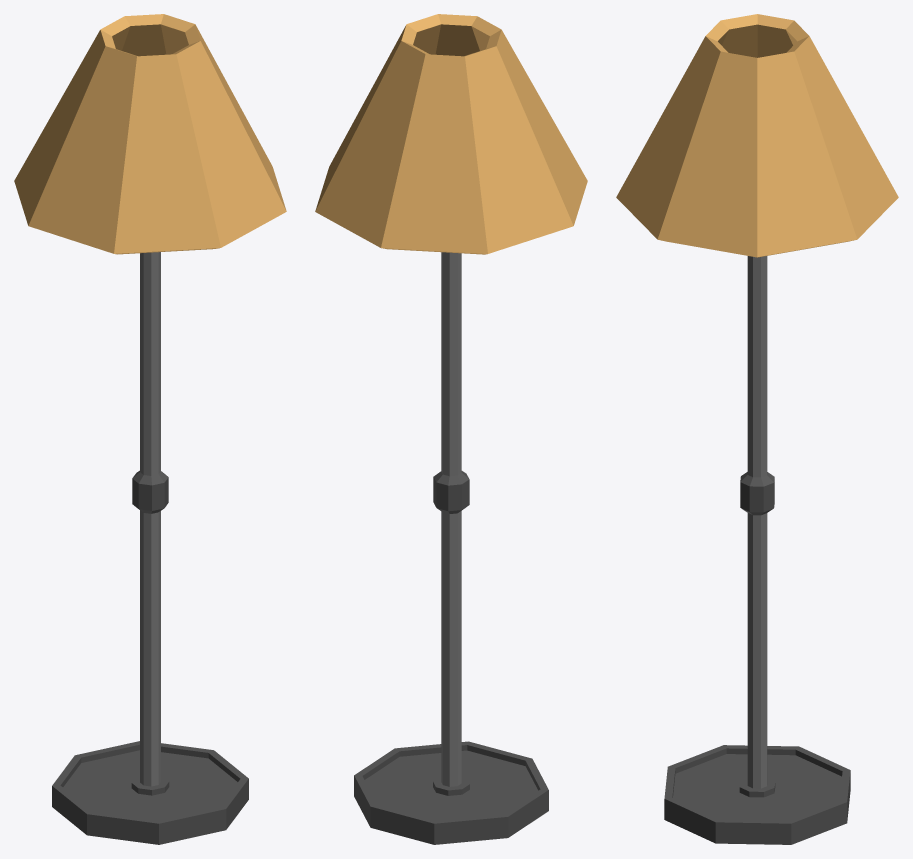
Rendered from lamp.glb.
3 views of the same model, side by side, from view 1: azimuth 30°, elevation 25°; view 2: azimuth 150°, elevation 25°; view 3: azimuth 270°, elevation 25° (orthographic).
Visible parts, largest first — view 1: Lamp_01; view 2: Lamp_01; view 3: Lamp_01.
Part boxes in pixels (bbox=[...]): Lamp_01: bbox=[14, 14, 286, 844]; Lamp_01: bbox=[315, 14, 587, 844]; Lamp_01: bbox=[616, 14, 898, 844].
Bounding box in the file's own units: 0.0931 × 0.2795 × 0.0931.
1 material, 1 textured.
